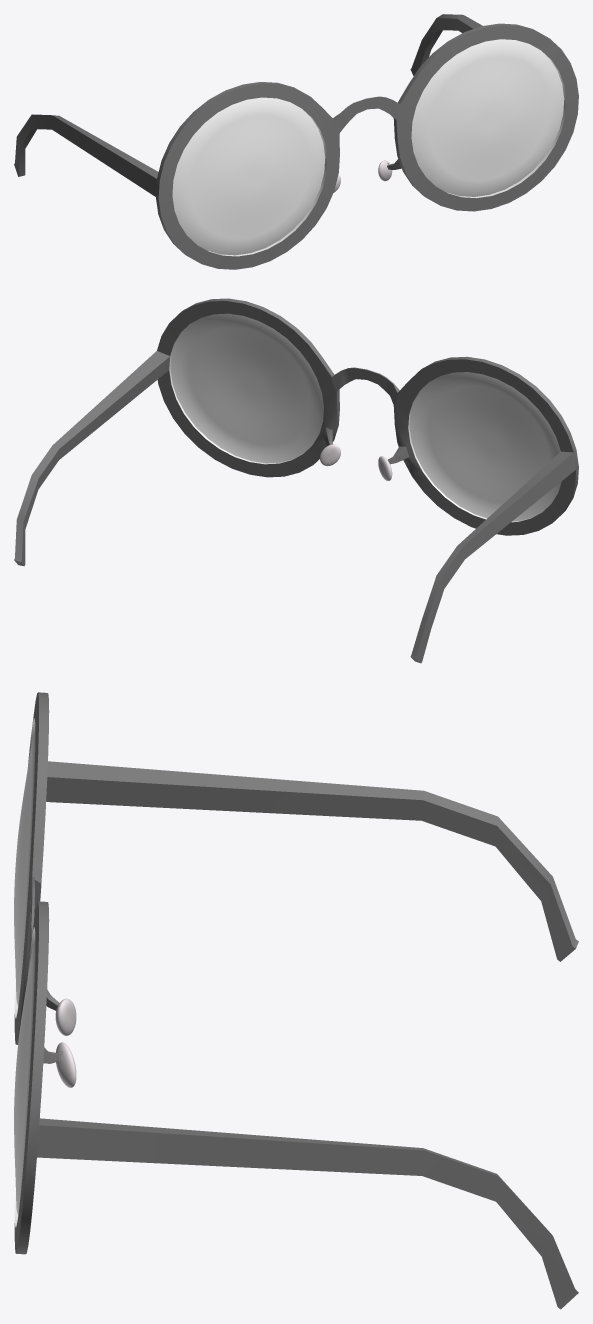
3 views of the same model, one above another, from view 1: azimuth 30°, elevation 25°; view 2: azimuth 150°, elevation 25°; view 3: azimuth 270°, elevation 25° (orthographic). The views are drawn at different scales.
Parts seen in each view (by area): view 1: Circle.001; view 2: Circle.001; view 3: Circle.001.
Boxes of the visible parts, bbox=[...] form: Circle.001: bbox=[14, 14, 578, 269]; Circle.001: bbox=[14, 298, 578, 663]; Circle.001: bbox=[14, 692, 578, 1309].
Bounding box in the file's own units: 3.84 × 1.55 × 2.5.
Materials: 3 (1 with a texture image).
